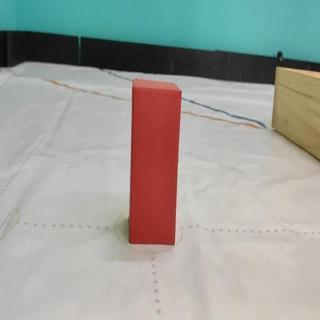redbox: (129, 79, 183, 246)
